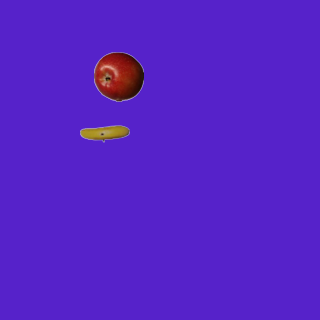Apple Braeburn: (93, 51, 143, 101)
Banana: (79, 108, 129, 158)
